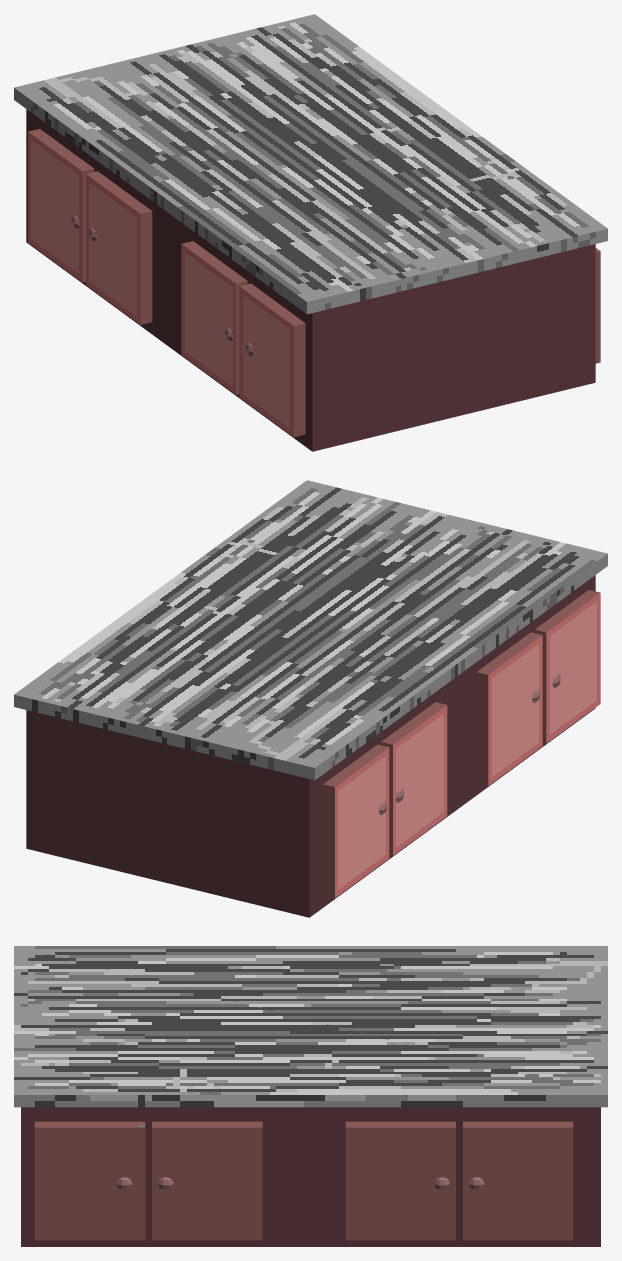
File: kitchen_island.gltf
3 views of the same model, one above another, from view 1: azimuth 30°, elevation 25°; view 2: azimuth 150°, elevation 25°; view 3: azimuth 270°, elevation 25° (orthographic).
Parts seen in each view (by area): view 1: cuboid-col; view 2: cuboid-col; view 3: cuboid-col.
Part boxes in pixels (left/top/right/bottom): cuboid-col: left=14, top=14, right=607, bottom=451; cuboid-col: left=14, top=480, right=607, bottom=917; cuboid-col: left=14, top=946, right=607, bottom=1246.
Size of the model in its own units: 3.31 by 1.56 by 5.38.
Materials: 1 (1 with a texture image).
